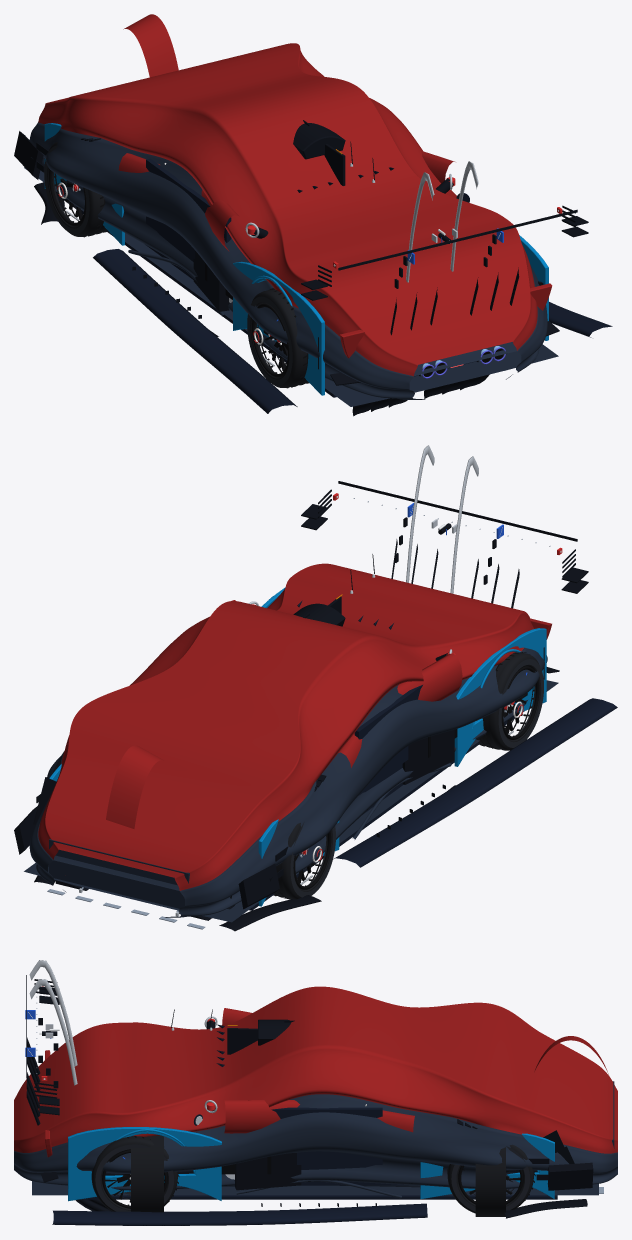
The model's file is sports_coupe_gt.glb.
The picture shows the model from 3 angles, top to bottom: view 1: azimuth 30°, elevation 25°; view 2: azimuth 150°, elevation 25°; view 3: azimuth 270°, elevation 25°; orthographic projection. The views are drawn at different scales.
Parts seen in each view (by area): view 1: Body_Upper_Shell_Paint, Body_Lower_Diffuser_Carbon, Underbody_Aerodynamics_Venturi_Assembly, Body_Flat_Floor_Carbon, Tire_Seamless_Radial_Casing (×2), Rear_Fender_LH, Tire_Assembly_HighDetail (×2), Front_Fascia_And_Nose_Assembly, Flank_LH, Chassis_Sills_Doors_Extinguisher_Assembly, Diffuser_Strakes_Rain_Light_Assembly, Swan_Neck_Pylons_Pitch_Plates_Assembly (+11 smaller); view 2: Body_Upper_Shell_Paint, Body_Lower_Diffuser_Carbon, Underbody_Aerodynamics_Venturi_Assembly, Front_Lower_Hex_Grille, Tire_Seamless_Radial_Casing (×2), Flank_LH, Rear_Fender_LH, Front_Fascia_And_Nose_Assembly, Body_Flat_Floor_Carbon, Tire_Assembly_HighDetail (×2), Dual_Tier_Dive_Planes_Venturi_Assembly, Intercooler_LH (+7 smaller); view 3: Body_Upper_Shell_Paint, Body_Lower_Diffuser_Carbon, Underbody_Aerodynamics_Venturi_Assembly, Rear_Fender_RH, Front_Fender_RH, Body_Flat_Floor_Carbon, Flank_RH, Chassis_Sills_Doors_Extinguisher_Assembly, Intercooler_RH, Tire_Seamless_Radial_Casing (×2), Swan_Neck_Pylons_Pitch_Plates_Assembly, Tire_Assembly_HighDetail (×2) (+7 smaller).
Boxes of the visible parts, box(x1,y1,x2,y2) form: Body_Upper_Shell_Paint: box(38, 43, 537, 376); Body_Lower_Diffuser_Carbon: box(29, 122, 547, 399); Underbody_Aerodynamics_Venturi_Assembly: box(56, 191, 612, 413); Body_Flat_Floor_Carbon: box(24, 167, 558, 406); Tire_Seamless_Radial_Casing (×2): box(47, 142, 308, 387); Rear_Fender_LH: box(233, 261, 324, 395); Tire_Assembly_HighDetail (×2): box(44, 145, 309, 388); Front_Fascia_And_Nose_Assembly: box(44, 14, 178, 158); Flank_LH: box(118, 153, 239, 316); Chassis_Sills_Doors_Extinguisher_Assembly: box(145, 158, 231, 279); Diffuser_Strakes_Rain_Light_Assembly: box(352, 267, 519, 416); Swan_Neck_Pylons_Pitch_Plates_Assembly: box(394, 161, 503, 288); Body_Upper_Shell_Paint: box(38, 563, 533, 890); Body_Lower_Diffuser_Carbon: box(29, 647, 547, 917); Underbody_Aerodynamics_Venturi_Assembly: box(249, 698, 617, 910); Front_Lower_Hex_Grille: box(49, 839, 189, 910); Tire_Seamless_Radial_Casing (×2): box(274, 652, 541, 899); Flank_LH: box(338, 653, 462, 839); Rear_Fender_LH: box(454, 628, 546, 766); Front_Fascia_And_Nose_Assembly: box(106, 745, 231, 898); Body_Flat_Floor_Carbon: box(24, 680, 558, 922); Tire_Assembly_HighDetail (×2): box(273, 652, 543, 899); Dual_Tier_Dive_Planes_Venturi_Assembly: box(33, 777, 321, 931); Intercooler_LH: box(402, 729, 454, 784); Body_Upper_Shell_Paint: box(14, 986, 617, 1153); Body_Lower_Diffuser_Carbon: box(14, 1094, 617, 1190); Underbody_Aerodynamics_Venturi_Assembly: box(52, 1195, 557, 1225); Rear_Fender_RH: box(68, 1127, 221, 1212); Front_Fender_RH: box(420, 1133, 554, 1216); Body_Flat_Floor_Carbon: box(32, 1181, 598, 1195); Flank_RH: box(221, 1100, 414, 1198); Chassis_Sills_Doors_Extinguisher_Assembly: box(271, 1104, 408, 1185); Intercooler_RH: box(225, 1153, 301, 1190); Tire_Seamless_Radial_Casing (×2): box(91, 1136, 533, 1213); Swan_Neck_Pylons_Pitch_Plates_Assembly: box(25, 960, 77, 1088); Tire_Assembly_HighDetail (×2): box(95, 1136, 535, 1211).
Bounding box in the file's own units: 2.75 × 2 × 4.75.
